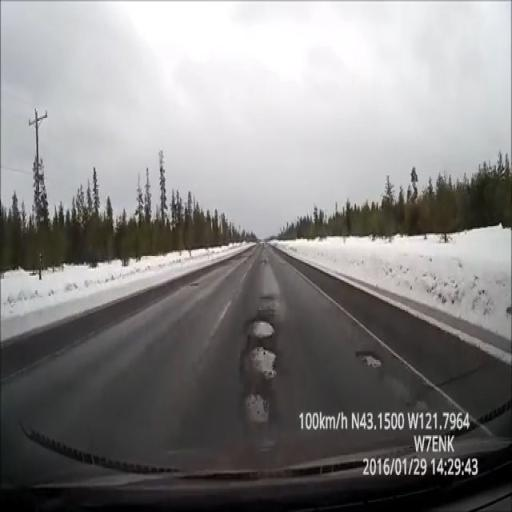Potholes: (239, 294, 278, 441), (357, 351, 385, 371)
